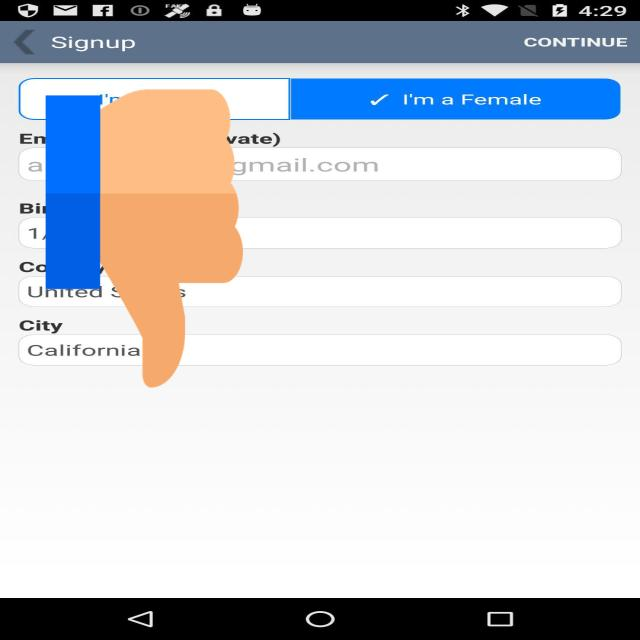obstruction: (46, 82, 243, 395)
